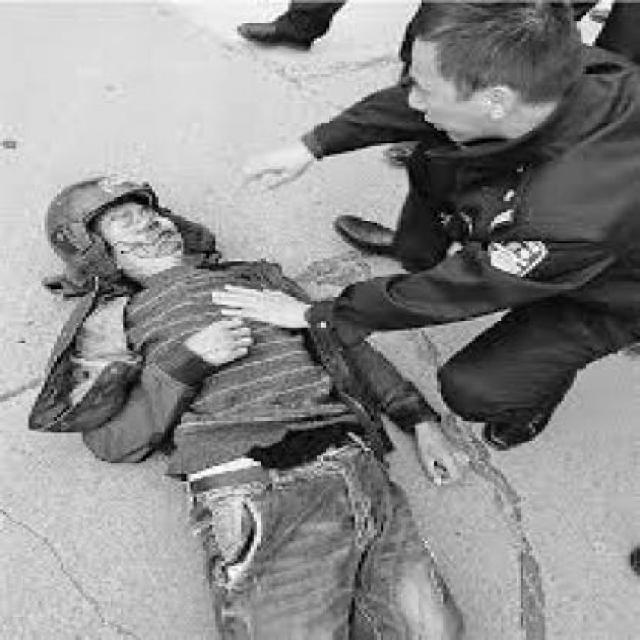fall: (47, 159, 507, 627)
